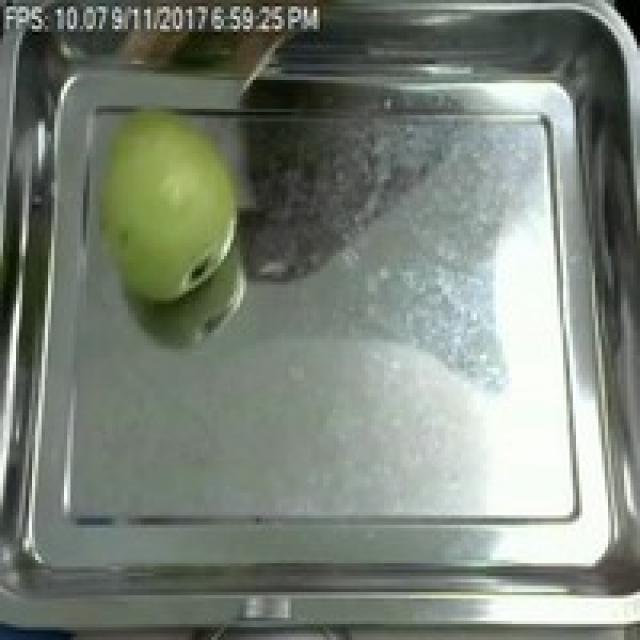Fruit: (61, 96, 259, 314)
